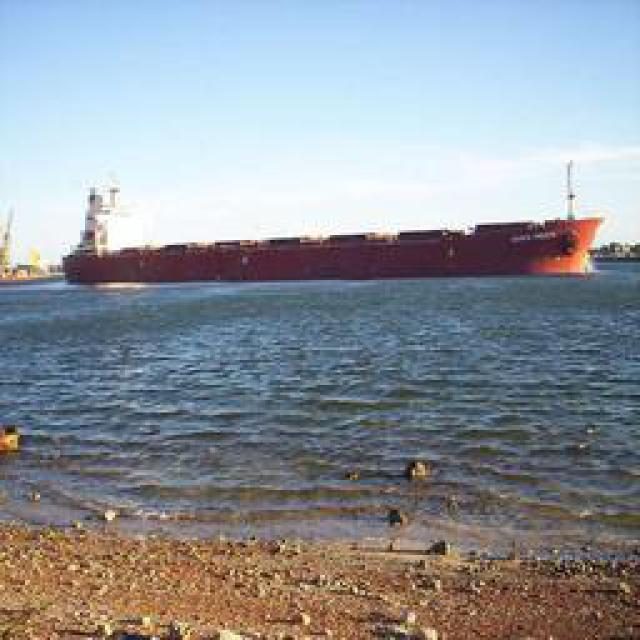Ship: (69, 197, 599, 287)
